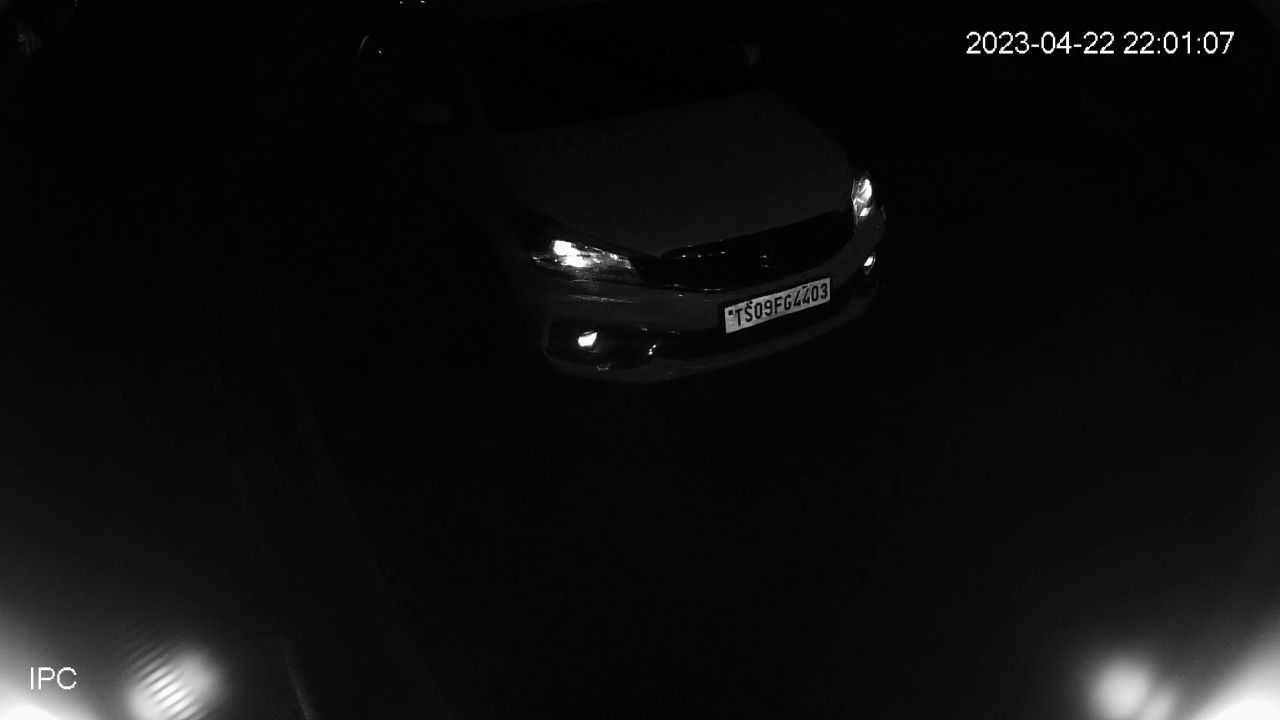license_plate: (722, 272, 835, 338)
